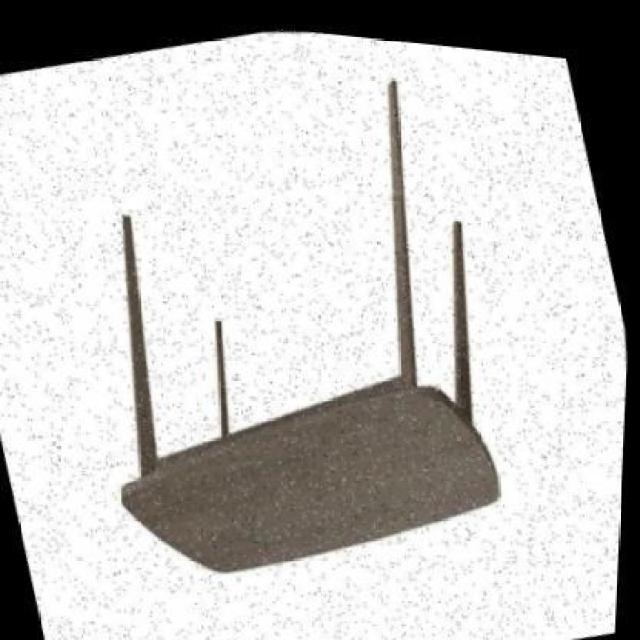tables: (0, 21, 629, 638)
